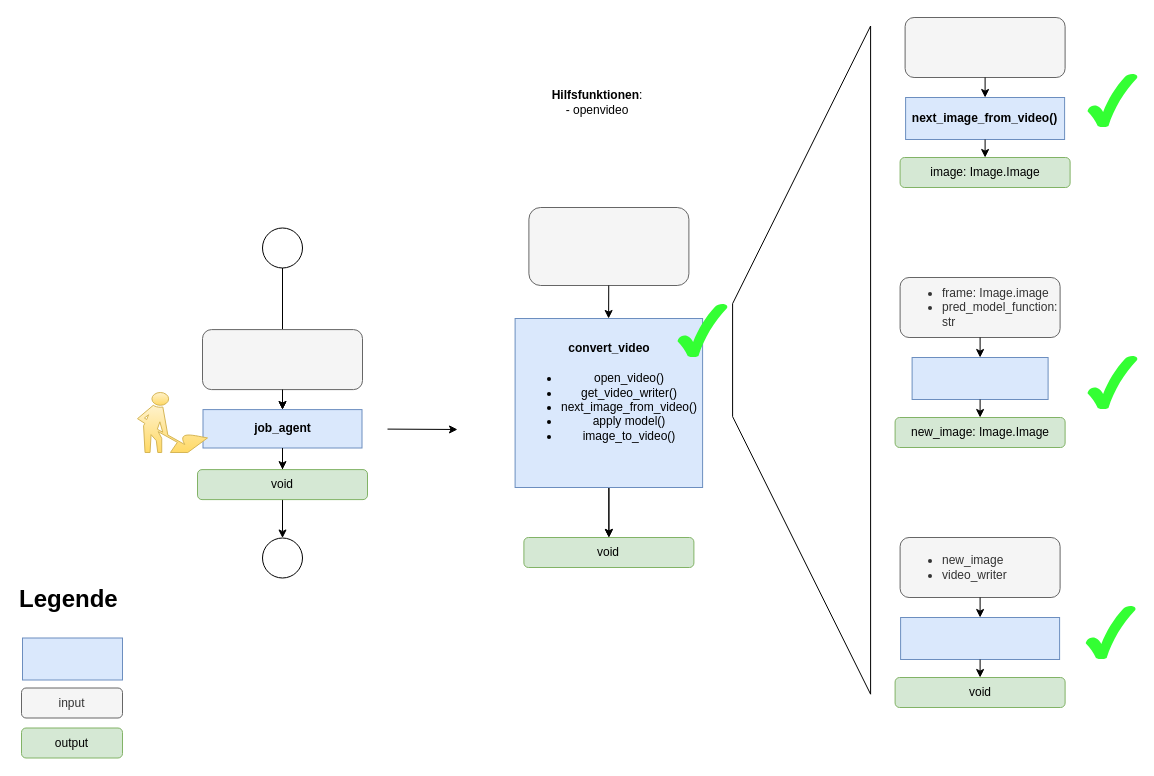
The diagram is 1154 pixels wide and 776 high, and some of its shapes have lost their labels. The centre of each missing label's shape, as x and y in pixels:
"apply_model" goes at pixel 979 378.
"function" goes at pixel 72 658.
"image_to_video()" goes at pixel 980 638.
"source_directory model_list[]" goes at pixel 282 359.
"src_path selected_model target_path" goes at pixel 608 246.
"video: cv2.VideoCapture" goes at pixel 984 47.
